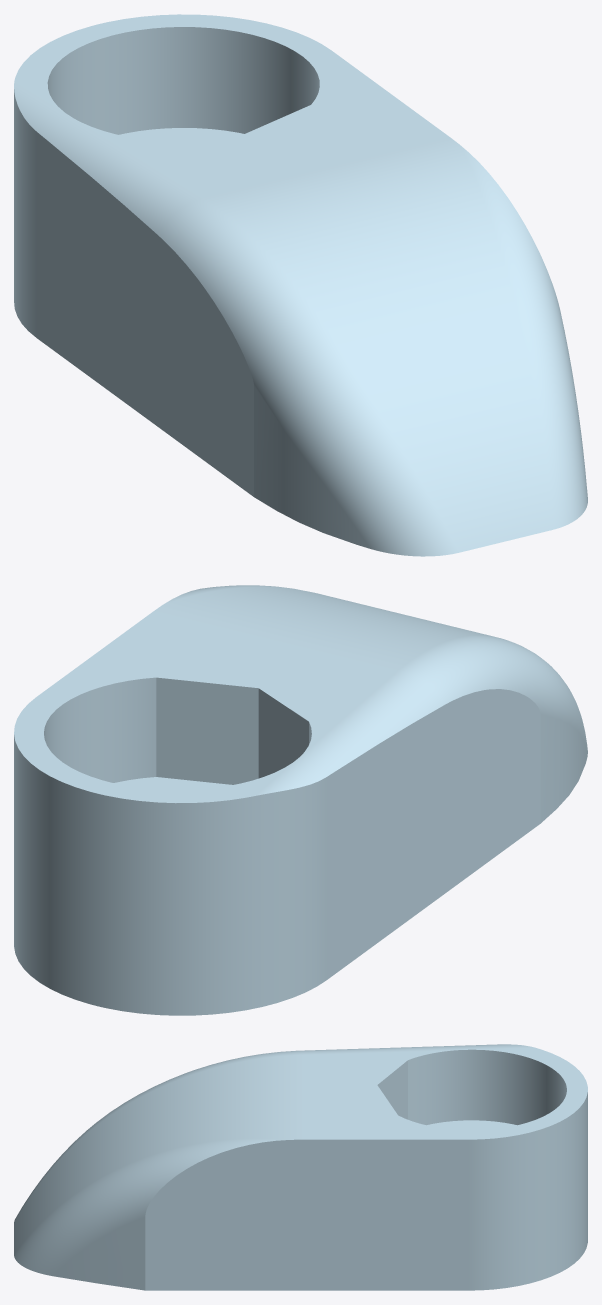
The model's file is upper.gltf.
The picture shows the model from 3 angles, top to bottom: view 1: azimuth 30°, elevation 25°; view 2: azimuth 150°, elevation 25°; view 3: azimuth 270°, elevation 25°; orthographic projection. The views are drawn at different scales.
Visible parts, largest first — view 1: Part 1; view 2: Part 1; view 3: Part 1.
Boxes of the visible parts, left/top/right/bottom form: Part 1: left=14, top=14, right=587, bottom=556; Part 1: left=14, top=585, right=587, bottom=1015; Part 1: left=14, top=1044, right=587, bottom=1290.
Bounding box in the file's own units: 0.05 × 0.035 × 0.1206.
